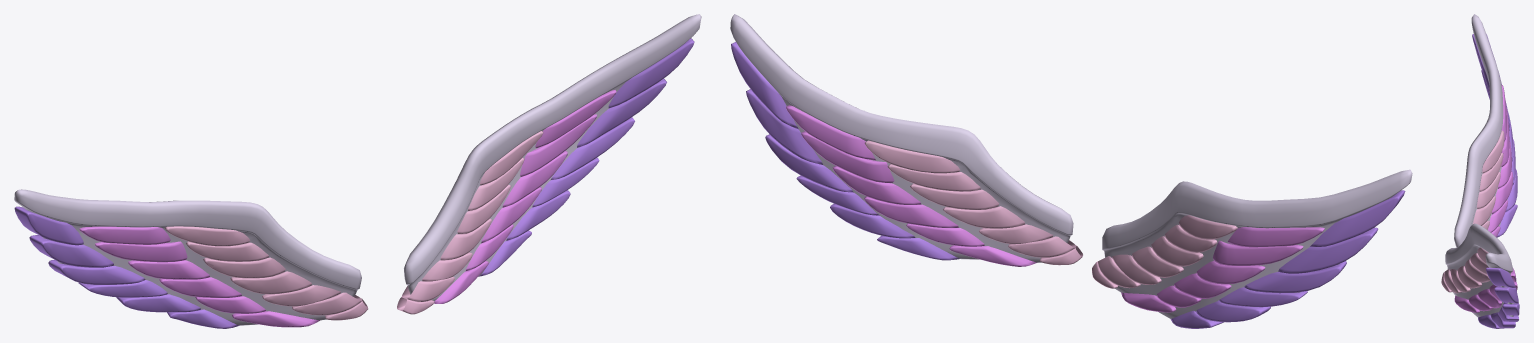
File: CUTE WINGS.fbx
3 renders of one model, left to right at view 1: azimuth 30°, elevation 25°; view 2: azimuth 150°, elevation 25°; view 3: azimuth 270°, elevation 25°, orthographic. The views are drawn at different scales.
Parts seen in each view (by area): view 1: Happy.001, Happy; view 2: Happy, Happy.001; view 3: Happy.001, Happy.
Part boxes in pixels (left/top/right/bottom): Happy.001: left=14, top=189, right=368, bottom=328; Happy: left=397, top=14, right=701, bottom=314; Happy: left=730, top=14, right=1082, bottom=266; Happy.001: left=1092, top=169, right=1412, bottom=328; Happy.001: left=1454, top=14, right=1517, bottom=247; Happy: left=1441, top=223, right=1519, bottom=328.
Bounding box in the file's own units: 125 × 35.1 × 17.12.
